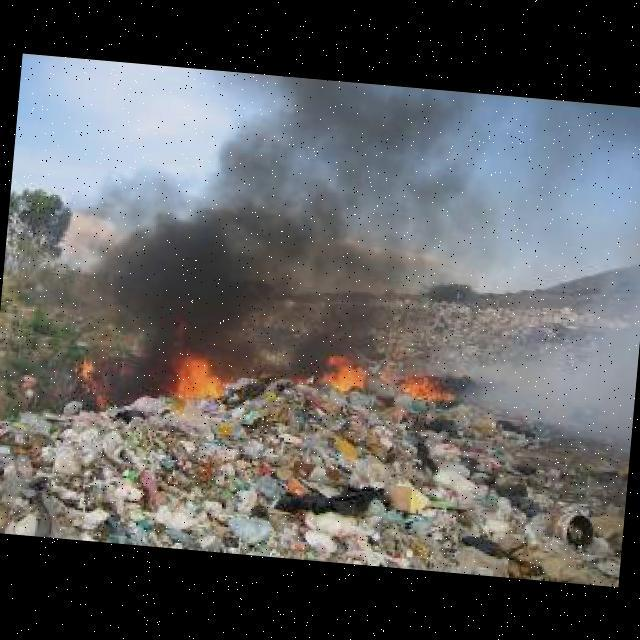Fire: (168, 347, 229, 408), (314, 344, 374, 393), (397, 367, 456, 408), (78, 360, 112, 412)
Smoke: (296, 79, 582, 369), (60, 133, 317, 379)
